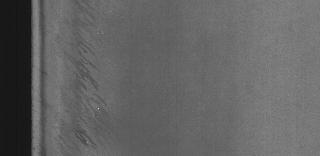water spot: (57, 8, 116, 154)
